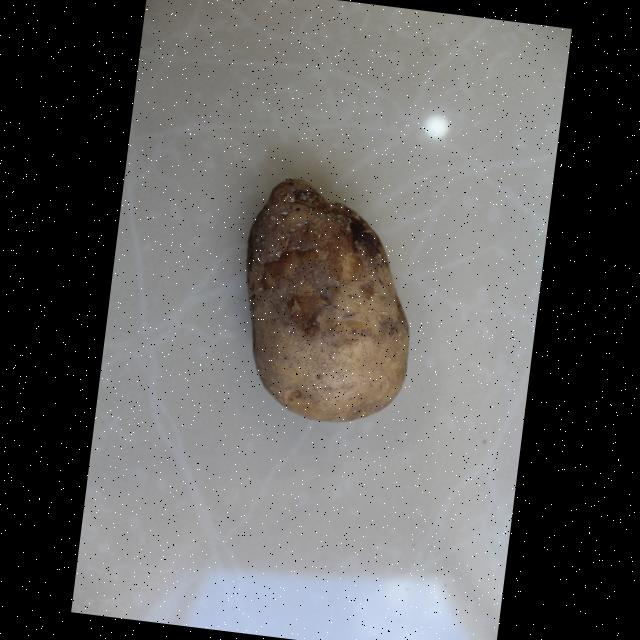Diseased-fungal potato: (222, 168, 428, 432)
